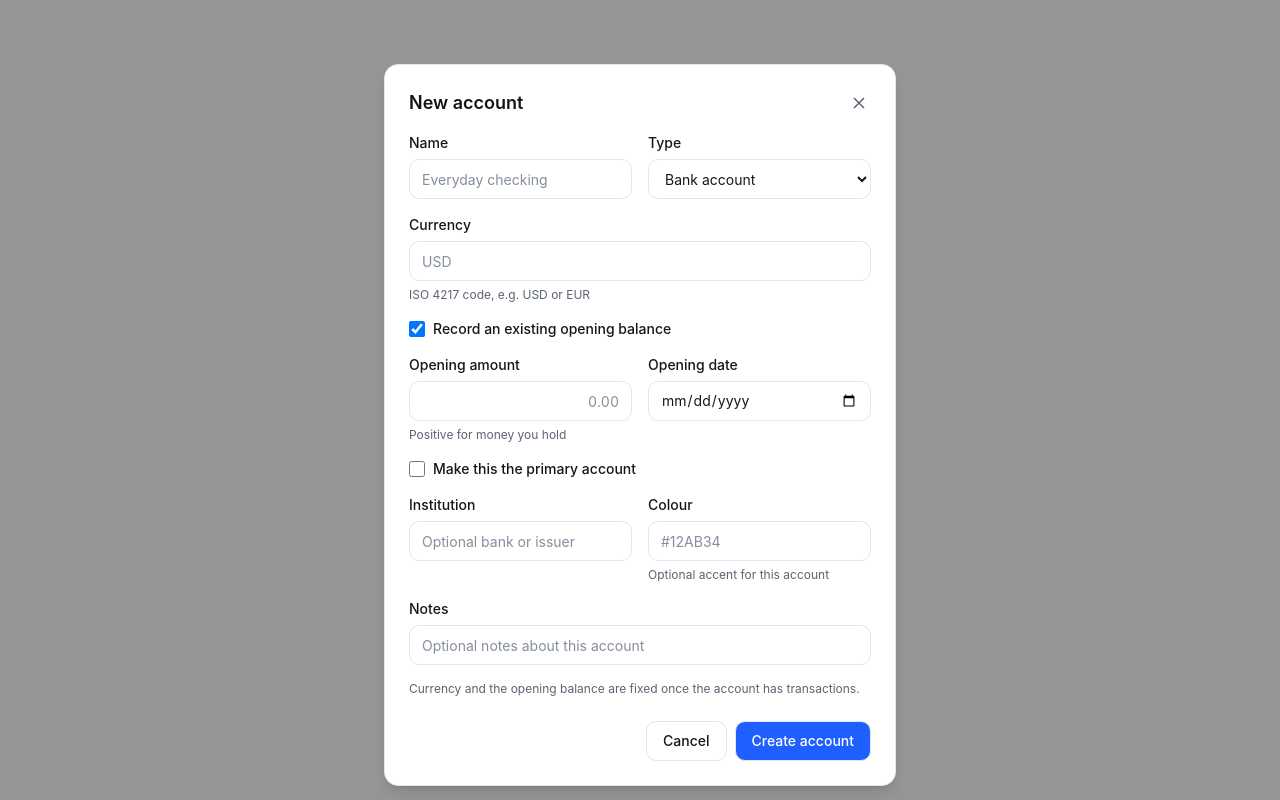
Test case: AccountFormModal › blocks submit when the client schema rejects the input
Type "Check-in" into the field labelled "Name".
click(520, 179); type("Check-in")  # box [409,159,632,199]
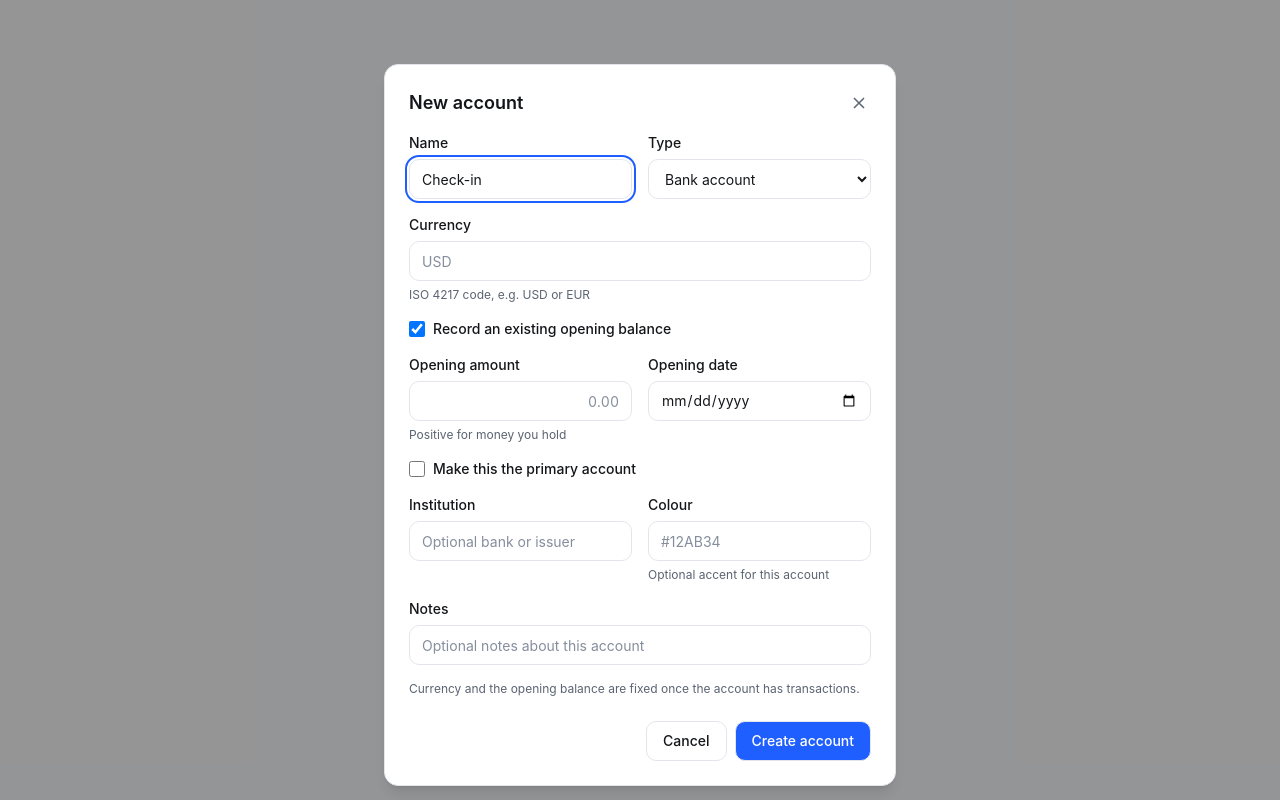
Type "INR" into the field labelled "Currency".
click(640, 261); type("INR")  # box [409,241,871,281]
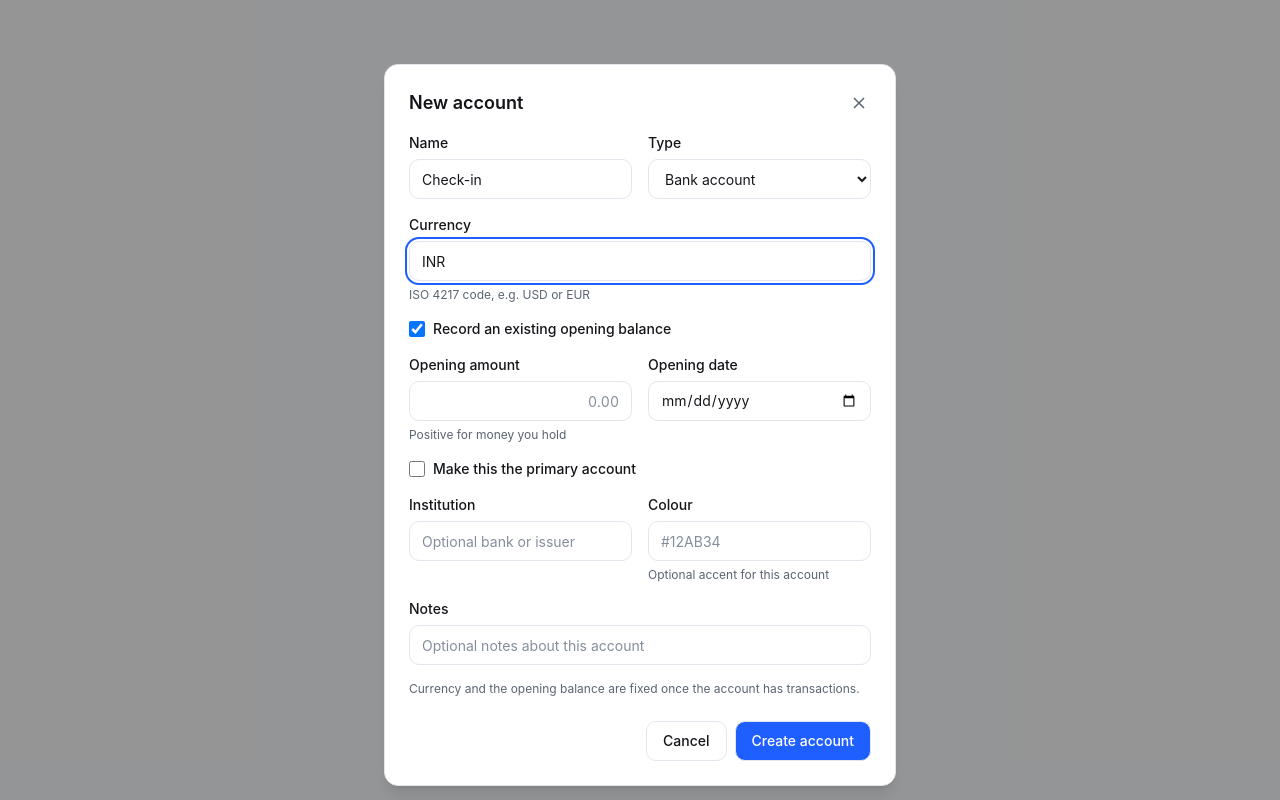
Type "4500" into the field labelled "Opening amount".
click(520, 401); type("4500")  # box [409,381,632,421]
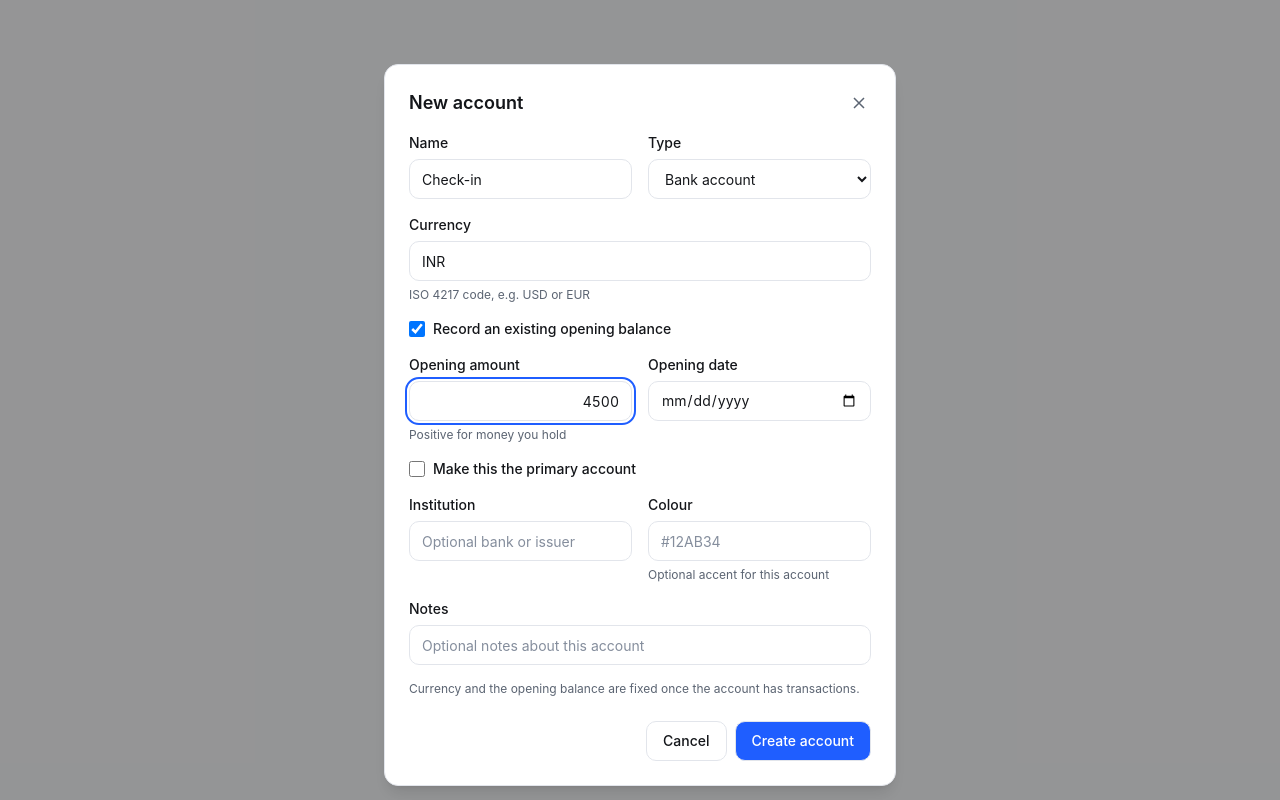
Click the button "Create account".
click(803, 741)  # box [734,721,871,761]
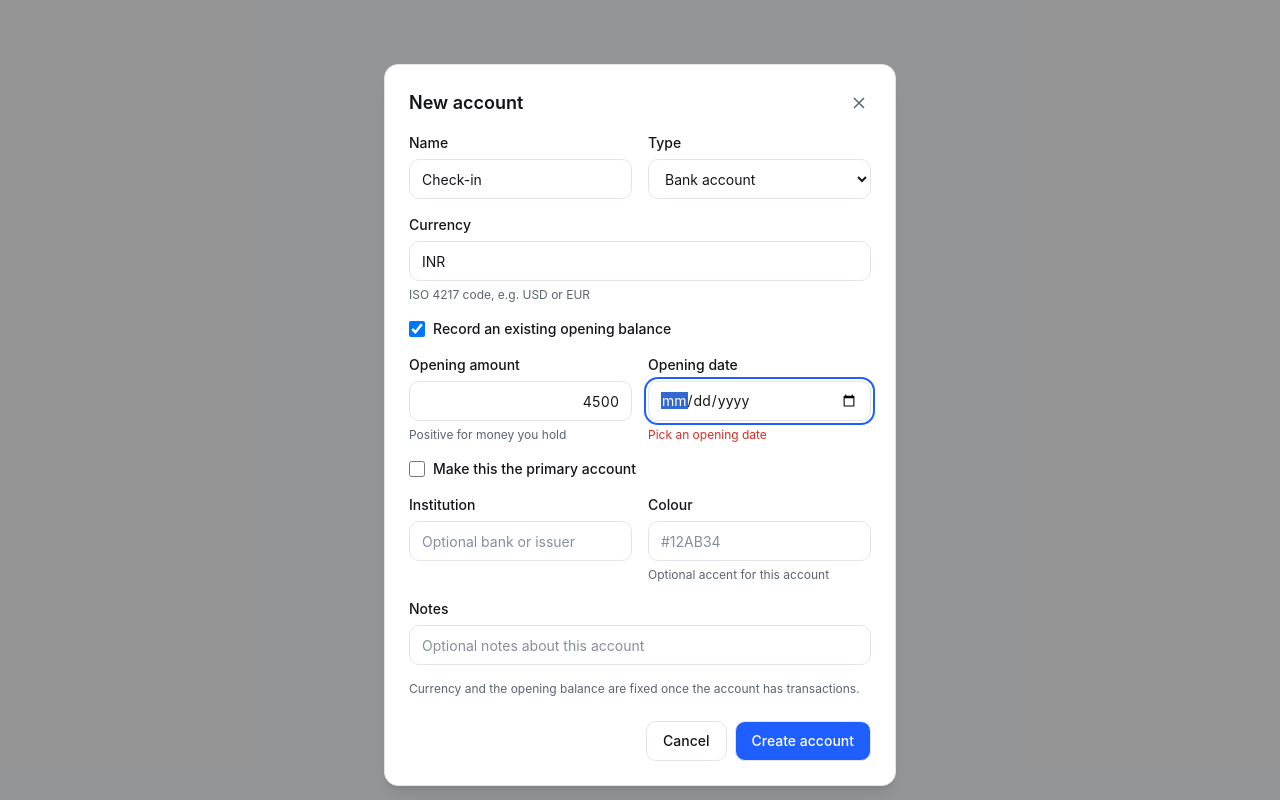
Check: the text "Pick an opening date" is shown, box [648,427,767,442]
